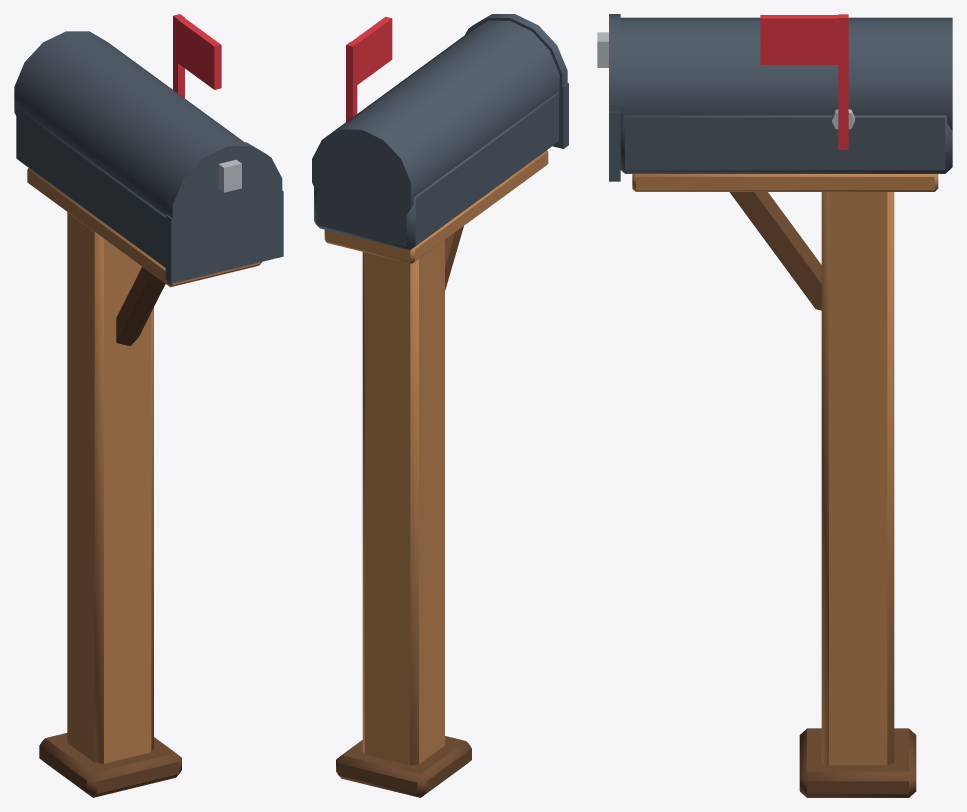
Rendered from mailbox.glb.
3 renders of one model, left to right at view 1: azimuth 30°, elevation 25°; view 2: azimuth 150°, elevation 25°; view 3: azimuth 270°, elevation 25°, orthographic. The views are drawn at different scales.
Visible parts, largest first — view 1: body; view 2: body; view 3: body.
Part boxes in pixels (x1,y1,x2,y2): body: [14, 14, 283, 797]; body: [312, 14, 568, 797]; body: [597, 14, 952, 797].
Size of the model in its own units: 20.5 by 120 by 48.8.
